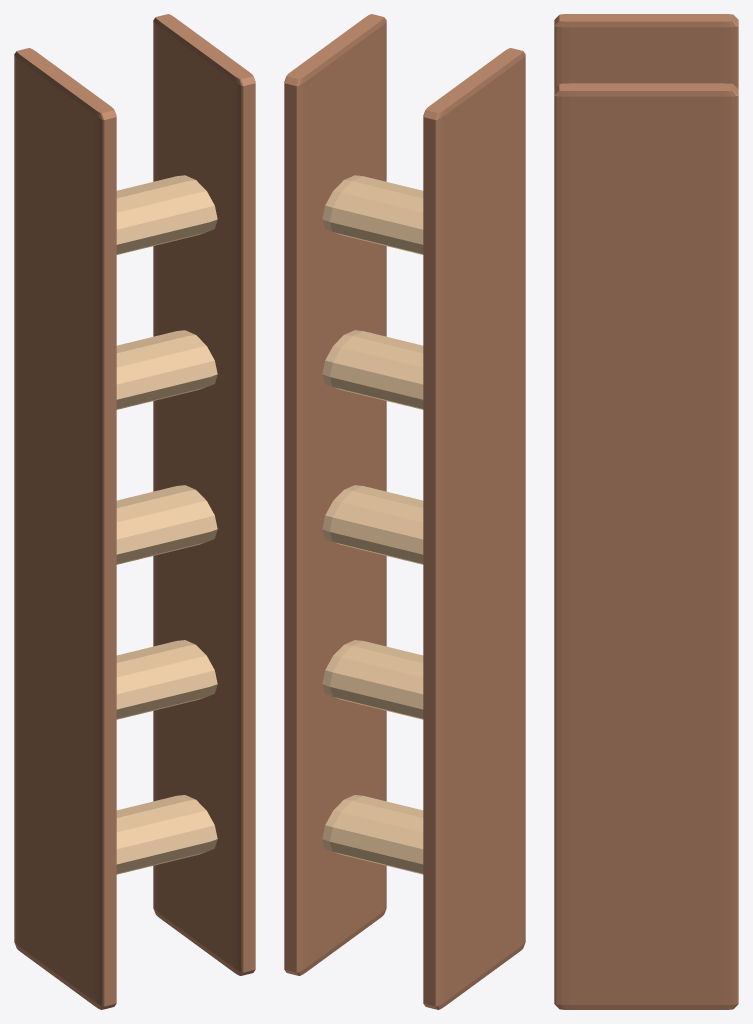
Rendered from rescue_ladder.glb.
3 views of the same model, side by side, from view 1: azimuth 30°, elevation 25°; view 2: azimuth 150°, elevation 25°; view 3: azimuth 270°, elevation 25° (orthographic). The views are drawn at different scales.
Visible parts, largest first — view 1: model; view 2: model; view 3: model.
Boxes of the visible parts, bbox=[...] form: model: bbox=[14, 14, 255, 1009]; model: bbox=[284, 14, 525, 1009]; model: bbox=[554, 14, 738, 1009].
Bounding box in the file's own units: 0.4 × 2.2 × 0.4.
